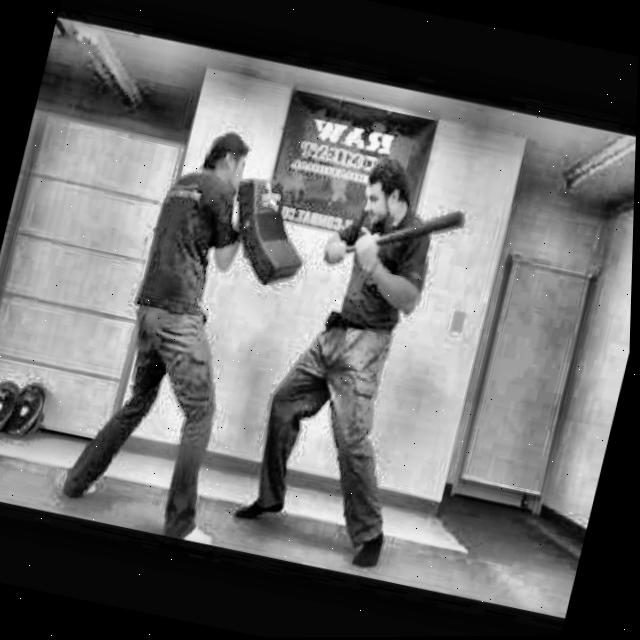tongkat pemukul: (319, 205, 477, 269)
